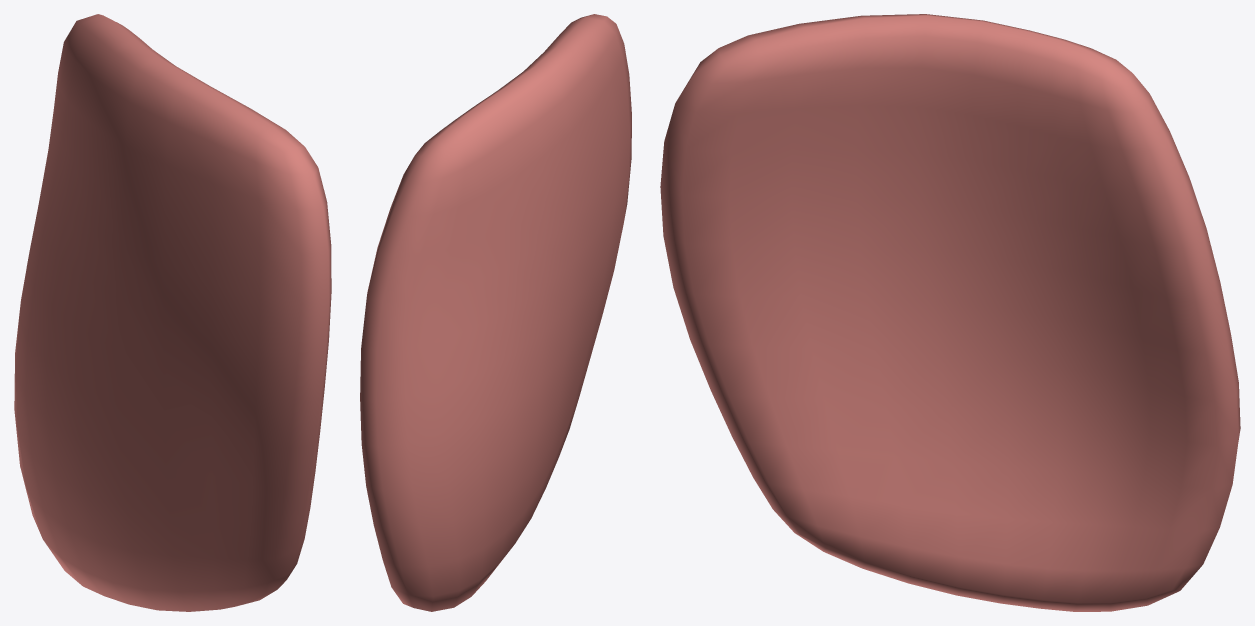
The picture shows the model from 3 angles, left to right: view 1: azimuth 30°, elevation 25°; view 2: azimuth 150°, elevation 25°; view 3: azimuth 270°, elevation 25°; orthographic projection. The views are drawn at different scales.
Visible parts, largest first — view 1: ZA_0d5651b6a17f460f; view 2: ZA_0d5651b6a17f460f; view 3: ZA_0d5651b6a17f460f.
Part boxes in pixels (x1,y1,x2,y2): ZA_0d5651b6a17f460f: [14, 14, 331, 611]; ZA_0d5651b6a17f460f: [360, 14, 631, 611]; ZA_0d5651b6a17f460f: [660, 14, 1240, 611].
Size of the model in its own units: 0.00421 by 0.0202 by 0.0181.
